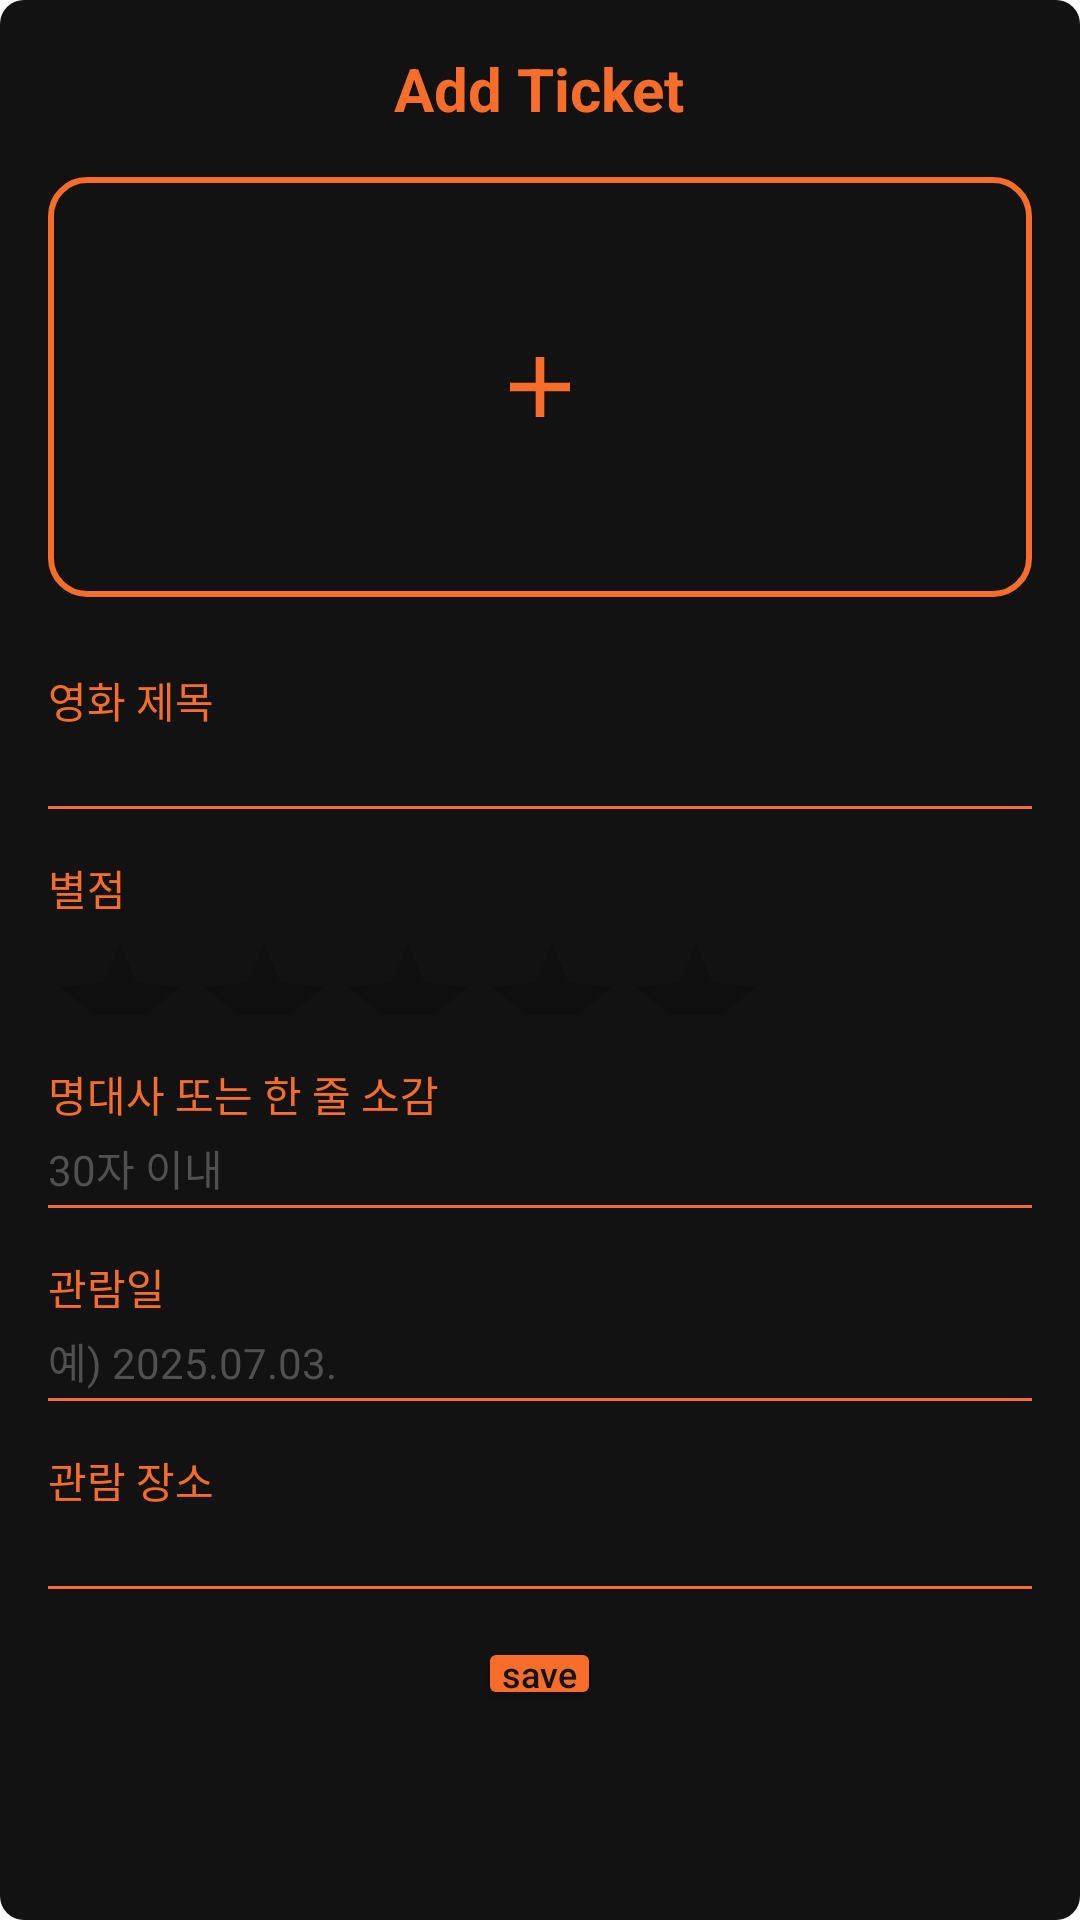

Screen size 1080px x 1920px. Icon name, then its center in pixels as [x,y]:
add: [540,387]
